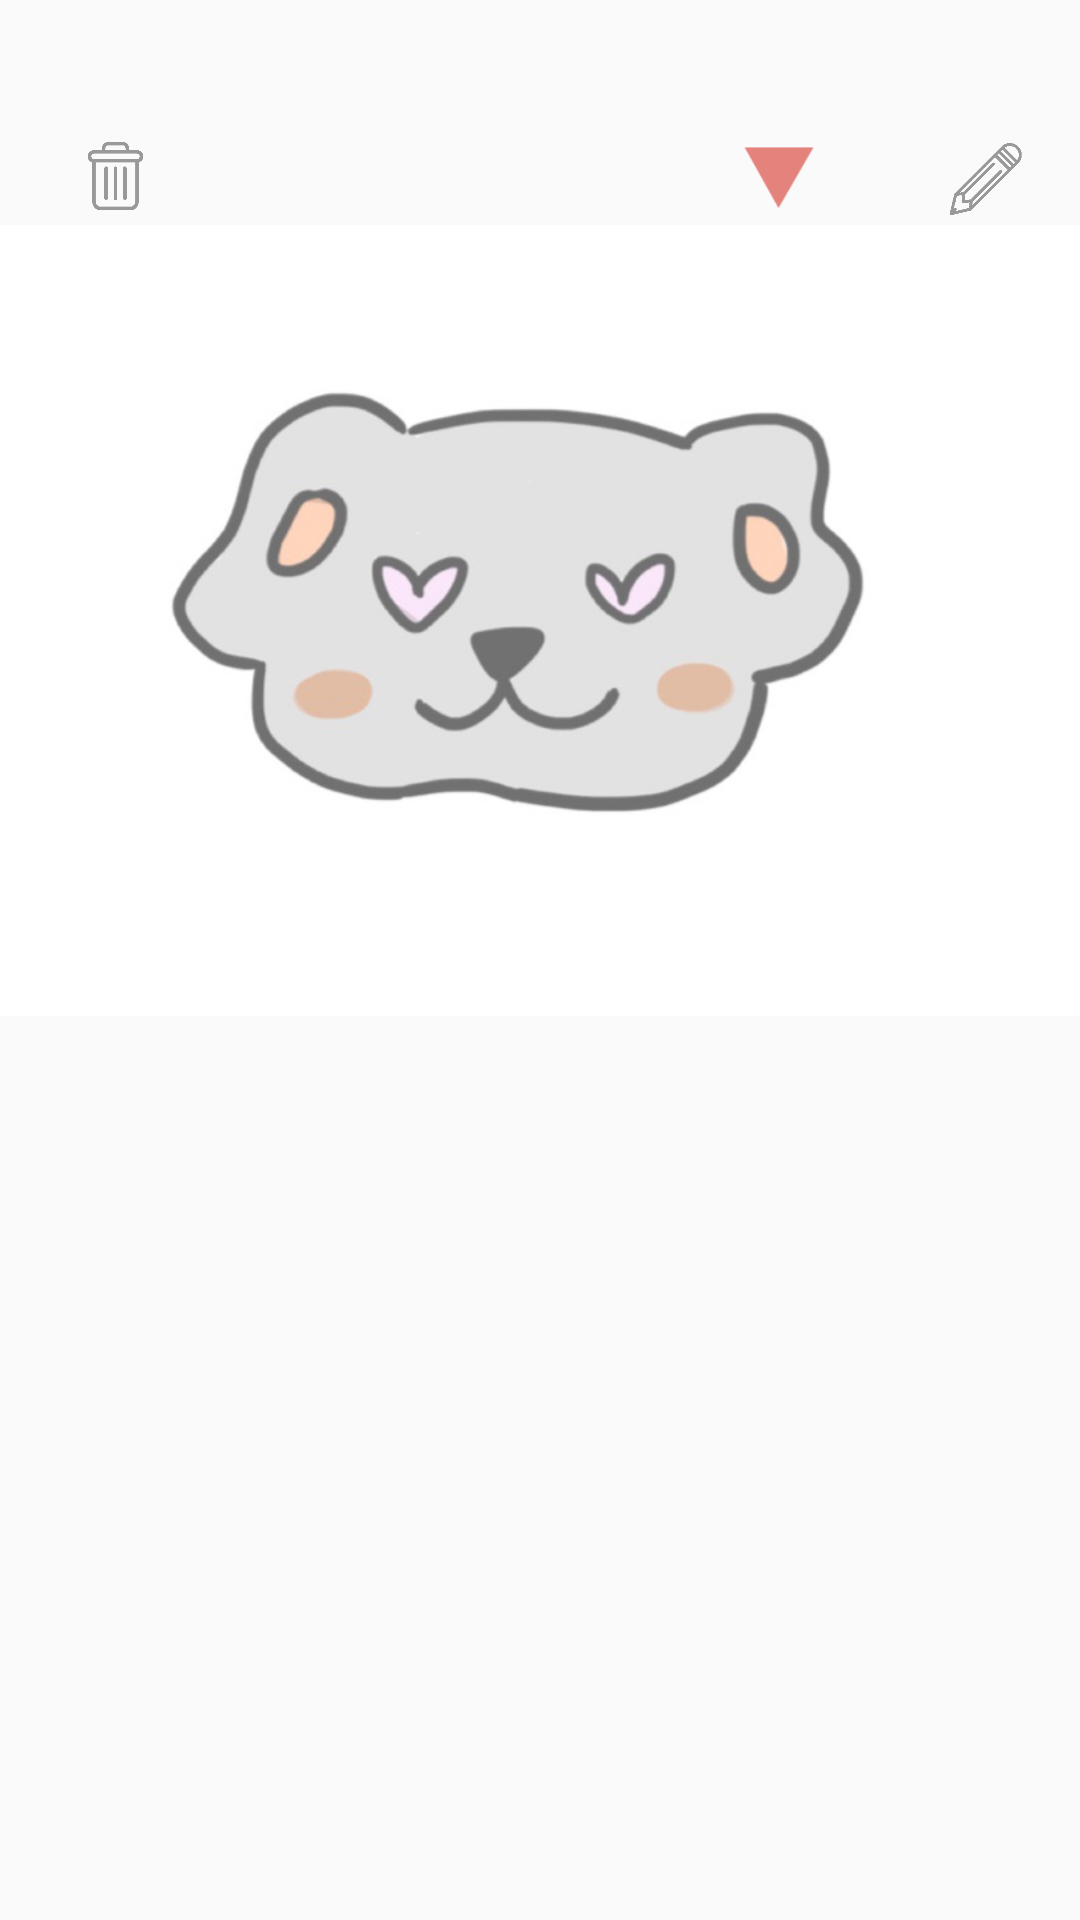

Screen size 1080px×1920px. Icon name, then its center in pixels as (x=x, y=y):
deletebtn: (x=115, y=176)
editbtn: (x=986, y=179)
